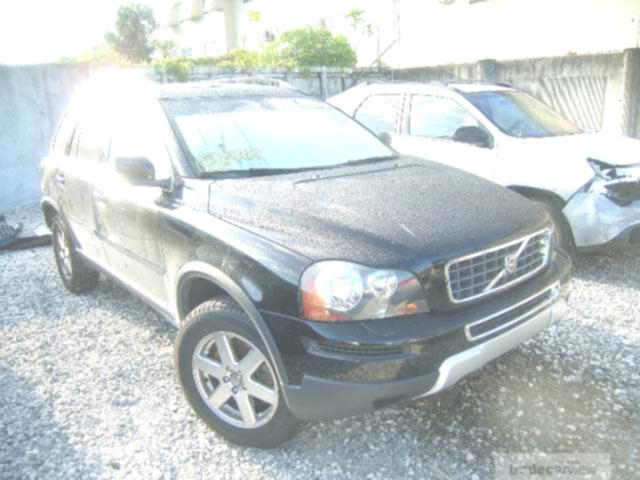volvo: (490, 245, 535, 284)
